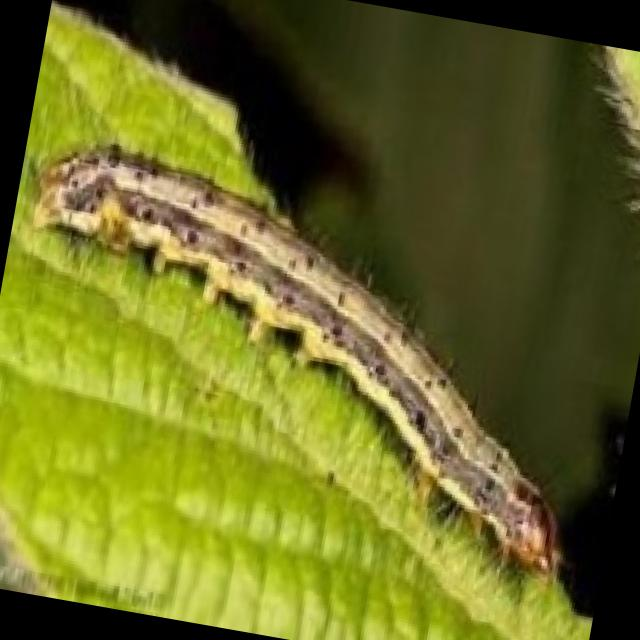armyworm: (1, 126, 633, 571)
